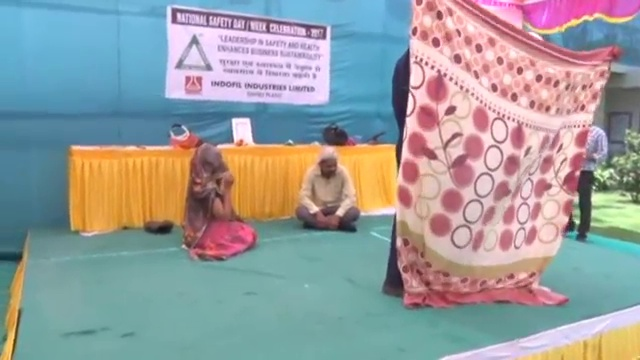helmet_off: (193, 146, 224, 173), (317, 148, 339, 179)
person: (175, 139, 258, 261), (294, 146, 364, 230), (568, 123, 610, 241)
